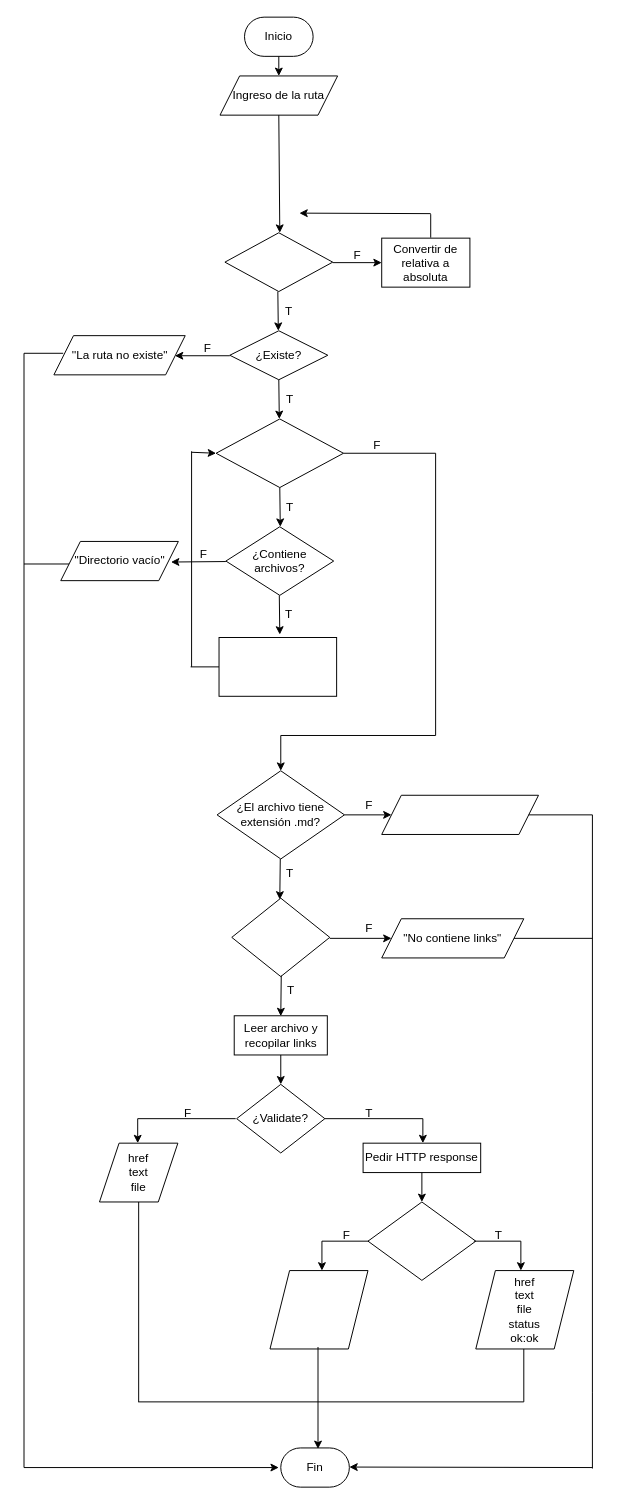
The diagram is 617 pixels wide and 1504 high, and some of its shapes have lost their labels. The centre of each missing label's shape, as x and y in pixels:
"No es un archivo .md": [460,814]
href text file status ok:fail: [318,1309]
Revisar cada archivo: [277,666]
¿Contiene links?: [280,937]
¿Es absoluta?: [278,262]
¿Es un directorio?: [279,453]
¿Status code ===200?: [421,1240]
